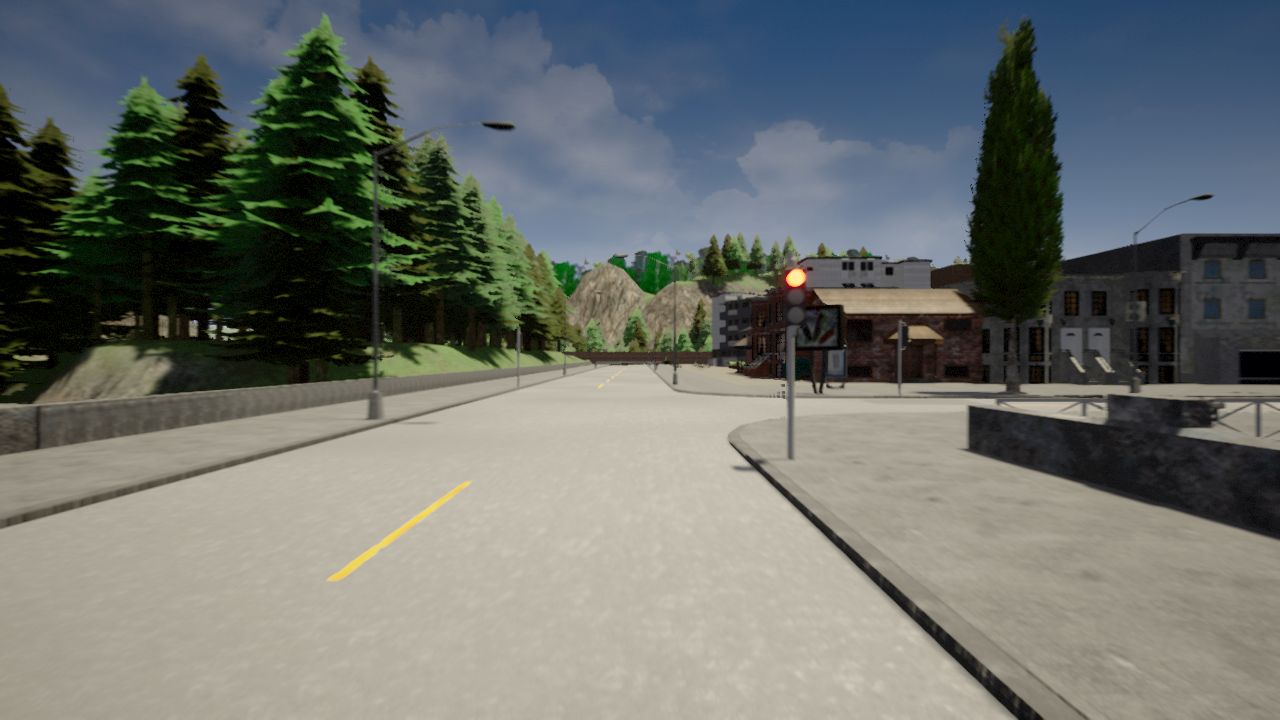red: (782, 266, 810, 325)
